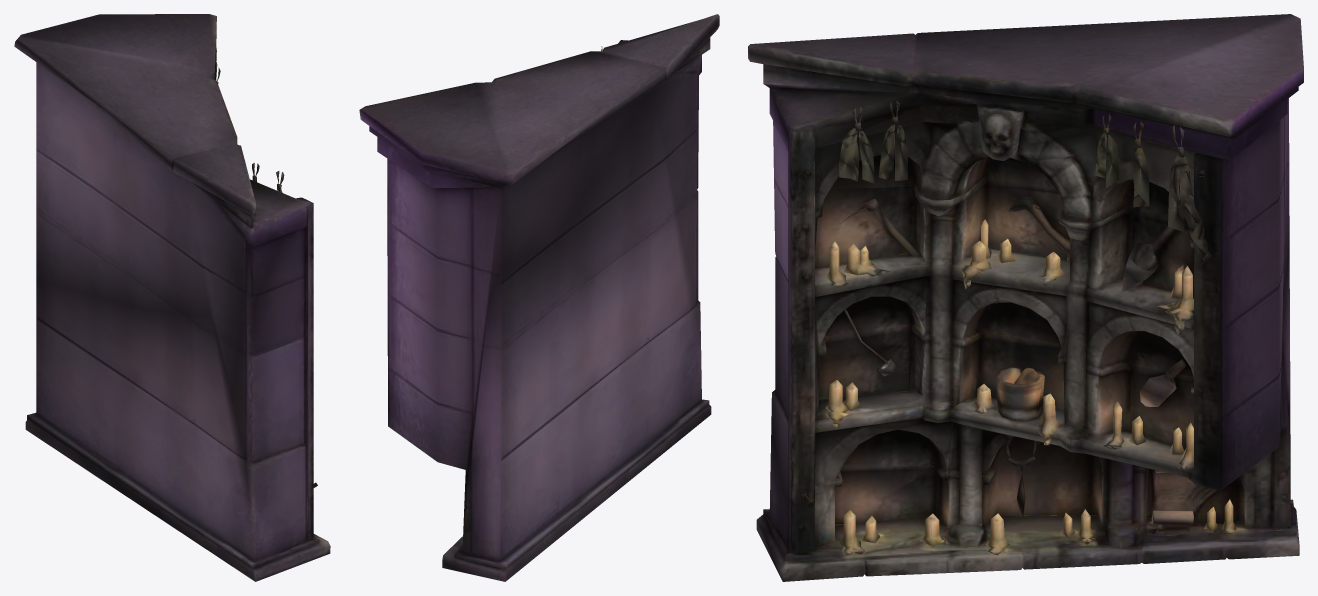
File: rite_niches.glb
The picture shows the model from 3 angles, left to right: view 1: azimuth 30°, elevation 25°; view 2: azimuth 150°, elevation 25°; view 3: azimuth 270°, elevation 25°; orthographic projection. The views are drawn at different scales.
Visible parts, largest first — view 1: tripo_node_6595f828-8c0f-4464-b239-9f264b8ea902; view 2: tripo_node_6595f828-8c0f-4464-b239-9f264b8ea902; view 3: tripo_node_6595f828-8c0f-4464-b239-9f264b8ea902.
Part boxes in pixels (<box>): tripo_node_6595f828-8c0f-4464-b239-9f264b8ea902: <box>14,14,330,581</box>; tripo_node_6595f828-8c0f-4464-b239-9f264b8ea902: <box>359,14,719,581</box>; tripo_node_6595f828-8c0f-4464-b239-9f264b8ea902: <box>748,14,1303,581</box>.
Bounding box in the file's own units: 0.459 × 0.9902 × 0.998.
1 material, 1 textured.
